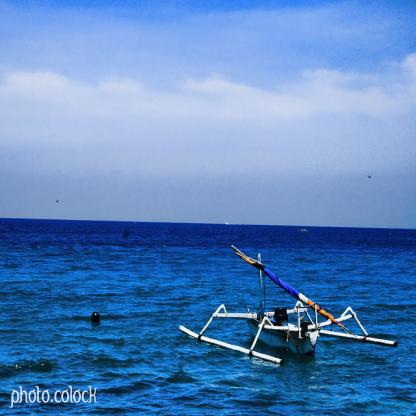boat: (178, 280, 394, 368)
